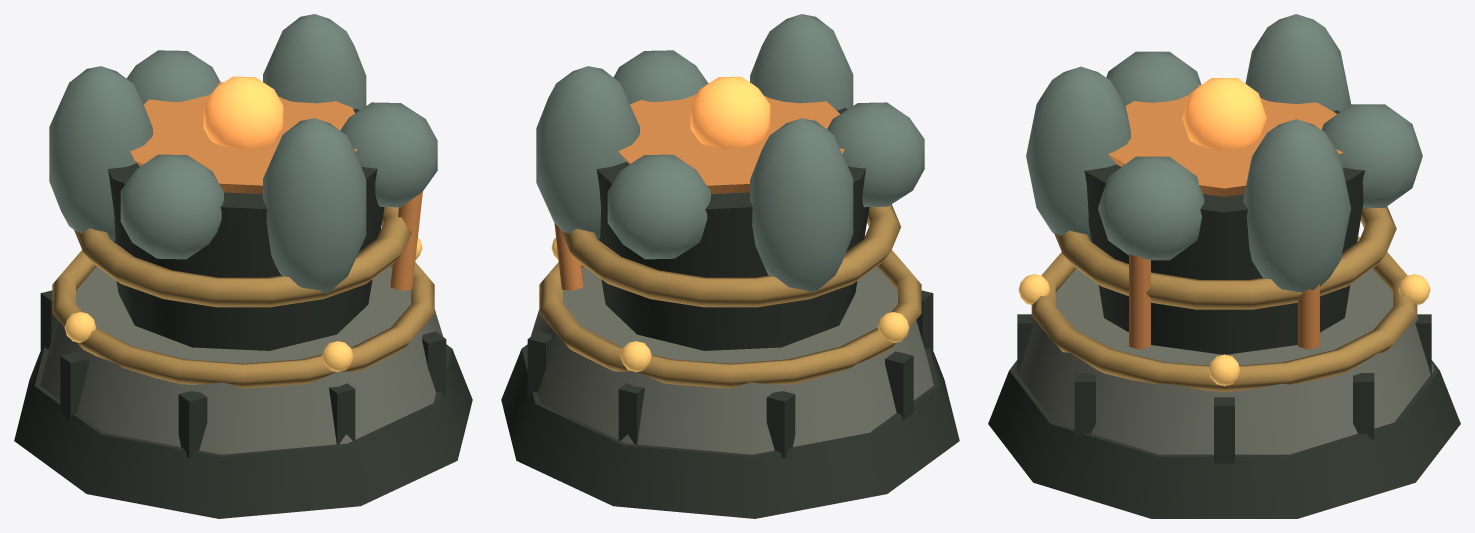
Rendered from tower_meteor_meteorMagma_ultimate.glb.
3 views of the same model, side by side, from view 1: azimuth 30°, elevation 25°; view 2: azimuth 150°, elevation 25°; view 3: azimuth 270°, elevation 25° (orthographic).
Parts seen in each view (by area): view 1: foot_0, stone_1, crucible_15, basalt_20, basalt_22, rim_2, cauldron_band_24, basalt_21, lava_16, basalt_18, basalt_19, ember_23 (+9 smaller); view 2: foot_0, stone_1, crucible_15, basalt_22, basalt_18, rim_2, cauldron_band_24, basalt_17, lava_16, basalt_20, basalt_21, ember_23 (+9 smaller); view 3: stone_1, foot_0, crucible_15, basalt_18, rim_2, basalt_20, cauldron_band_24, basalt_19, lava_16, basalt_22, basalt_17, ember_23 (+11 smaller).
Part boxes in pixels (bbox=[...]): foot_0: bbox=[14, 344, 472, 518]; stone_1: bbox=[40, 266, 446, 454]; crucible_15: bbox=[108, 108, 384, 350]; basalt_20: bbox=[263, 118, 366, 293]; basalt_22: bbox=[49, 66, 152, 241]; rim_2: bbox=[52, 250, 434, 388]; cauldron_band_24: bbox=[74, 207, 411, 307]; basalt_21: bbox=[120, 154, 223, 259]; lava_16: bbox=[130, 82, 357, 193]; basalt_18: bbox=[263, 14, 366, 109]; basalt_19: bbox=[340, 102, 437, 207]; ember_23: bbox=[203, 76, 283, 149]; foot_0: bbox=[501, 344, 959, 518]; stone_1: bbox=[527, 266, 933, 454]; crucible_15: bbox=[596, 107, 869, 350]; basalt_22: bbox=[750, 118, 853, 291]; basalt_18: bbox=[536, 66, 639, 239]; rim_2: bbox=[539, 236, 921, 388]; cauldron_band_24: bbox=[562, 204, 900, 307]; basalt_17: bbox=[607, 154, 710, 259]; lava_16: bbox=[618, 84, 844, 193]; basalt_20: bbox=[750, 14, 853, 110]; basalt_21: bbox=[827, 102, 924, 207]; ember_23: bbox=[690, 76, 770, 149]; stone_1: bbox=[1014, 269, 1434, 454]; foot_0: bbox=[988, 360, 1460, 518]; crucible_15: bbox=[1084, 110, 1365, 354]; basalt_18: bbox=[1243, 119, 1350, 292]; rim_2: bbox=[1031, 236, 1417, 391]; basalt_20: bbox=[1026, 66, 1130, 241]; cauldron_band_24: bbox=[1054, 206, 1396, 309]; basalt_19: bbox=[1098, 156, 1204, 260]; lava_16: bbox=[1108, 84, 1343, 196]; basalt_22: bbox=[1245, 14, 1350, 111]; basalt_17: bbox=[1322, 104, 1422, 207]; ember_23: bbox=[1182, 78, 1266, 150].
Bounding box in the file's own units: 0.5326 × 0.467 × 0.56.
